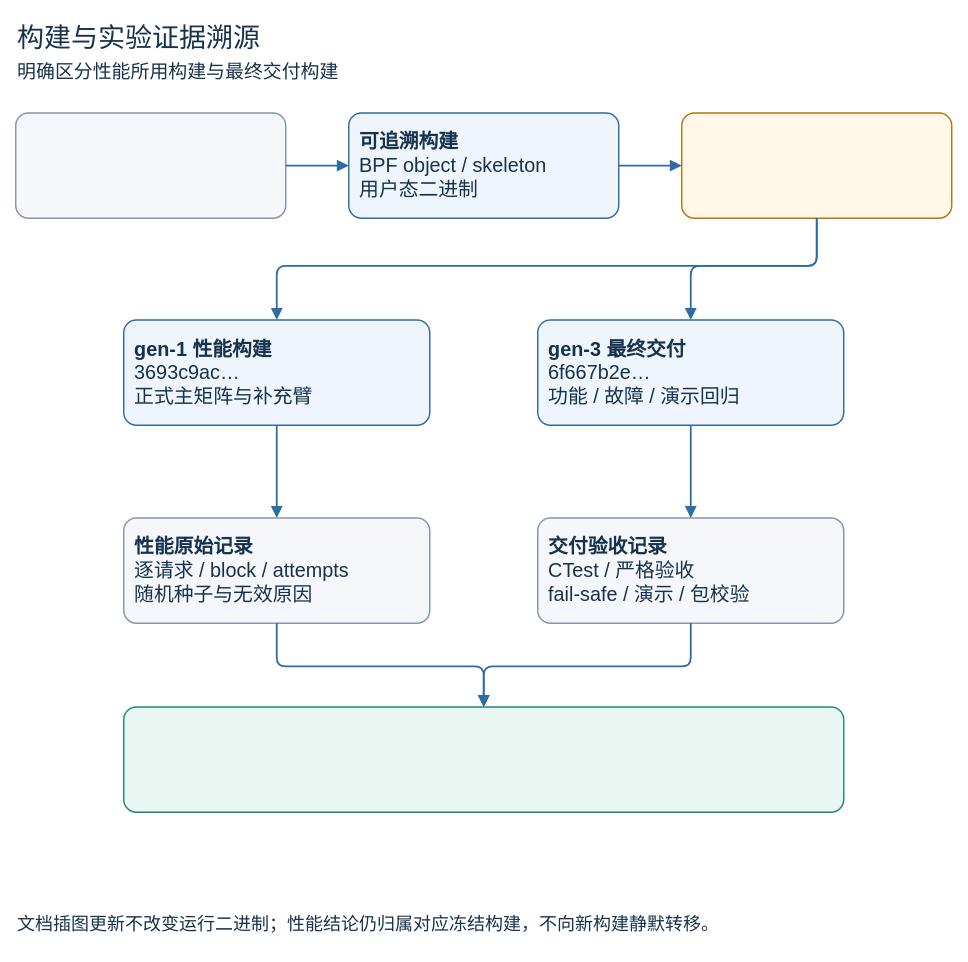
The diagram is 968 pixels wide and 962 high, and some of its shapes have lost their labels. The shapes that lost their labels are listed below. From the top down, each one's centre as x and y in pixels, then its label:
pixel 150 165: 源码与环境输入 commit / config / BTF 编译器与依赖版本
pixel 816 165: 冻结与哈希清单 完整 SHA256 PROVENANCE / manifest
pixel 483 759: 可重算报告与交付包 对照、置信区间、失败与边界同时披露 不将完整性检查等同于性能结论
